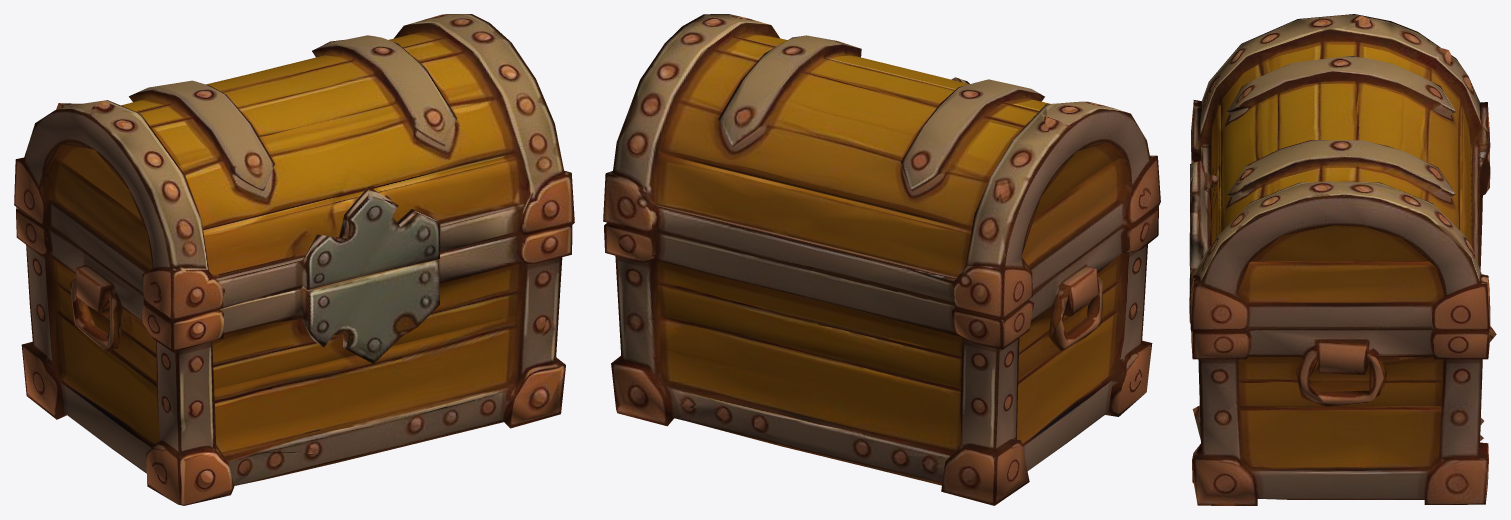
The model's file is coffre.glb.
3 renders of one model, left to right at view 1: azimuth 30°, elevation 25°; view 2: azimuth 150°, elevation 25°; view 3: azimuth 270°, elevation 25°, orthographic. The views are drawn at different scales.
Parts seen in each view (by area): view 1: tripo_node_ef8fba6c-995d-4b3a-b78b-999e6f5f6aa8; view 2: tripo_node_ef8fba6c-995d-4b3a-b78b-999e6f5f6aa8; view 3: tripo_node_ef8fba6c-995d-4b3a-b78b-999e6f5f6aa8.
Boxes of the visible parts, x1,y1,x2,y2 form: tripo_node_ef8fba6c-995d-4b3a-b78b-999e6f5f6aa8: (14,14,574,505); tripo_node_ef8fba6c-995d-4b3a-b78b-999e6f5f6aa8: (603,14,1160,505); tripo_node_ef8fba6c-995d-4b3a-b78b-999e6f5f6aa8: (1189,14,1496,505).
Size of the model in its own units: 1 by 0.7845 by 0.6826.
Materials: 1 (1 with a texture image).
